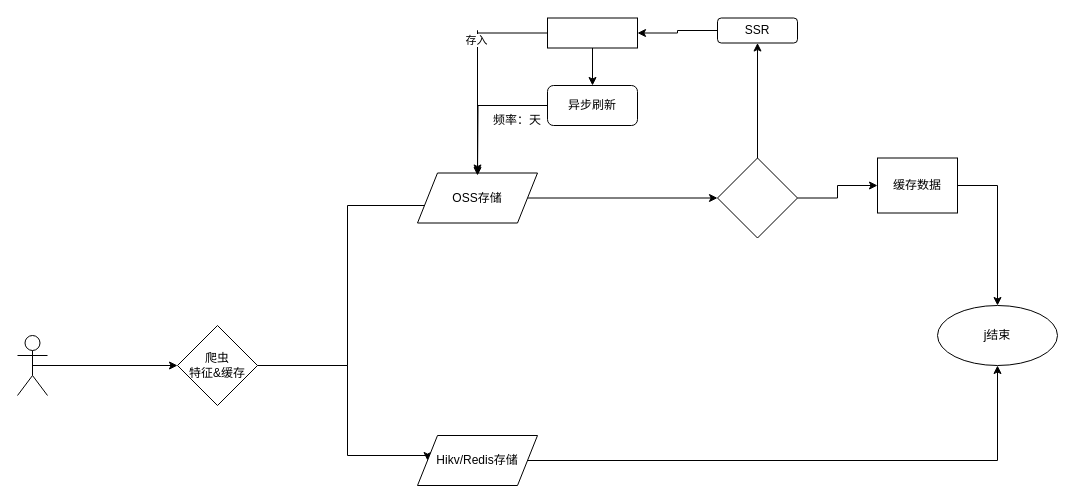
Image size: 1075x503. Some labels were removed from this diagram. Here are the shapes that lost their labels. From the top down, the centre of each, then its label:
At (592,32): "写入Index".
At (757,197): "获取 数据".
At (32,365): "Actor".
